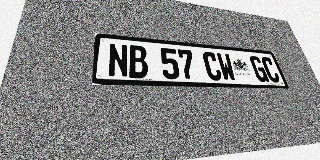5: (160, 48, 181, 79)
7: (176, 49, 197, 80)
B: (128, 45, 149, 78)
C: (202, 51, 223, 81), (260, 57, 281, 83)
G: (248, 56, 270, 82)
N: (108, 43, 129, 78)
W: (216, 53, 237, 81)
